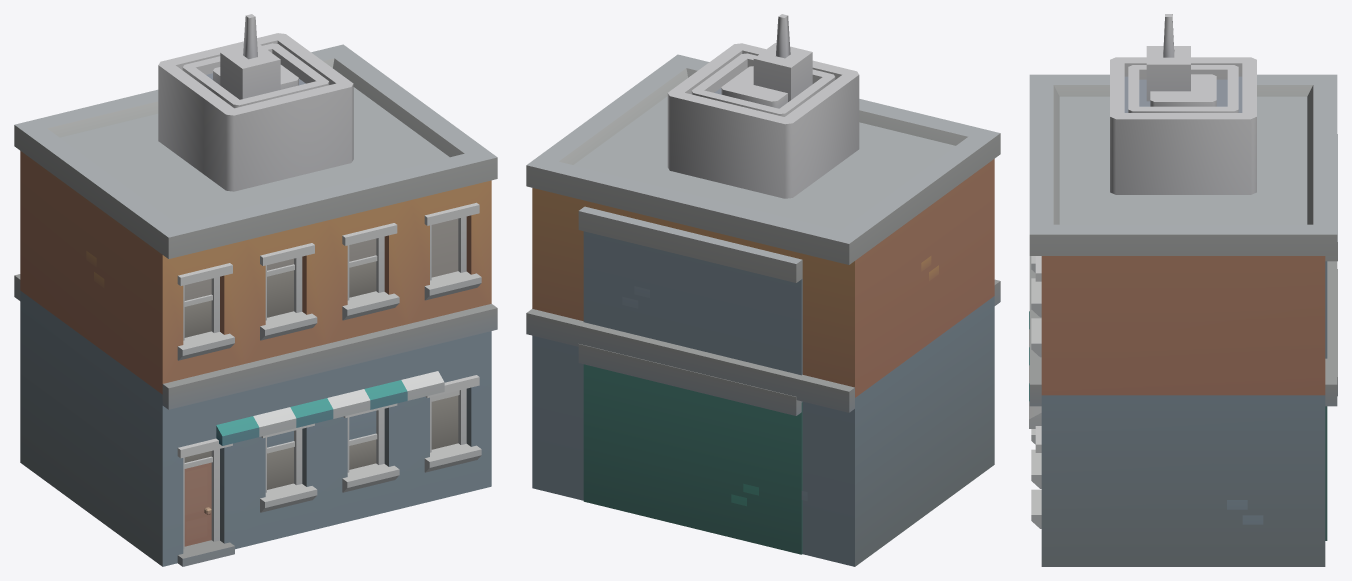
Rendered from club_props.glb.
The picture shows the model from 3 angles, left to right: view 1: azimuth 30°, elevation 25°; view 2: azimuth 150°, elevation 25°; view 3: azimuth 270°, elevation 25°; orthographic projection.
Parts seen in each view (by area): view 1: building_b, shop_b, building_a, shop_a; view 2: building_b, building_a, shop_b, shop_a; view 3: building_b, shop_b, shop_a, building_a.
Boxes of the visible parts, x1,y1,x2,y2 form: building_b: (14, 44, 497, 566); shop_b: (158, 14, 353, 191); building_a: (216, 371, 444, 445); shop_a: (182, 43, 329, 108); building_b: (526, 54, 1000, 566); building_a: (578, 206, 802, 554); shop_b: (667, 14, 859, 198); shop_a: (691, 53, 835, 116); building_b: (1029, 74, 1337, 566); shop_b: (1110, 14, 1256, 194); shop_a: (1128, 65, 1238, 112); building_a: (1029, 134, 1337, 540).
Size of the model in its own units: 10.37 by 14 by 8.42.
